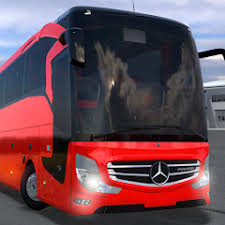bus: (1, 5, 223, 217)
